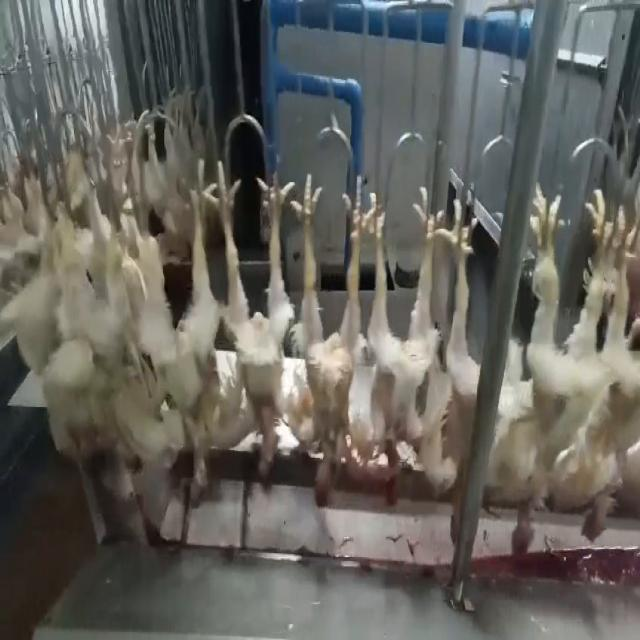chicken: (356, 178, 445, 509), (499, 189, 578, 558), (218, 161, 304, 492), (290, 175, 364, 507), (576, 192, 640, 545), (153, 164, 213, 506), (434, 192, 473, 523)
